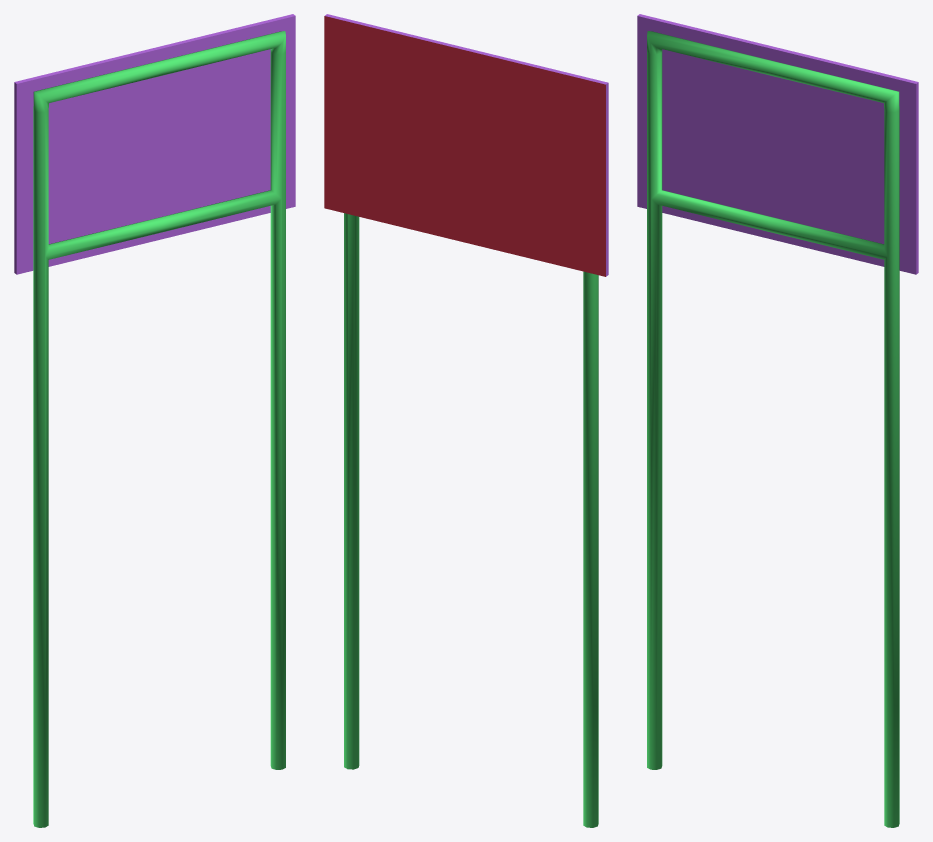
The model's file is dangerplane.fbx.
The picture shows the model from 3 angles, left to right: view 1: azimuth 30°, elevation 25°; view 2: azimuth 150°, elevation 25°; view 3: azimuth 330°, elevation 25°; orthographic projection.
Parts seen in each view (by area): view 1: Cylinder.001; view 2: Cylinder.001; view 3: Cylinder.001.
Boxes of the visible parts, box(x1,y1,x2,y2) form: Cylinder.001: box(14, 14, 295, 827); Cylinder.001: box(324, 14, 608, 827); Cylinder.001: box(637, 14, 918, 827).
Bounding box in the file's own units: 61.22 × 156 × 3.93.
